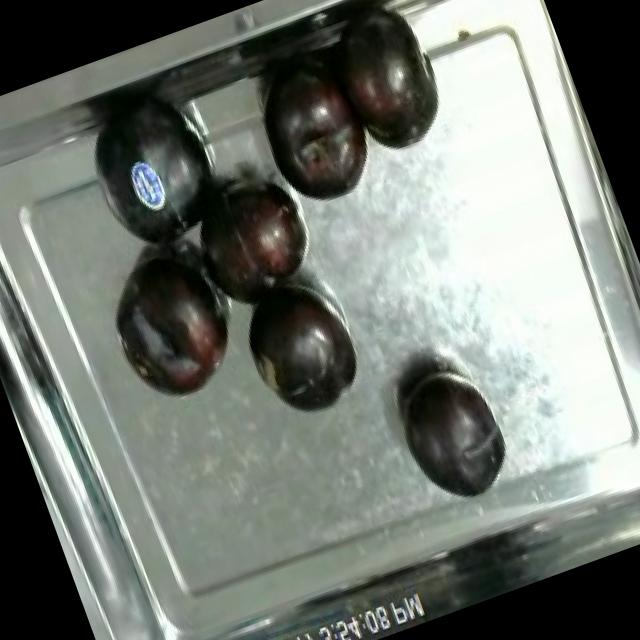Fruit: (94, 233, 254, 420), (240, 49, 390, 222), (174, 159, 334, 320), (223, 262, 374, 430), (313, 0, 465, 166), (382, 353, 524, 520)
